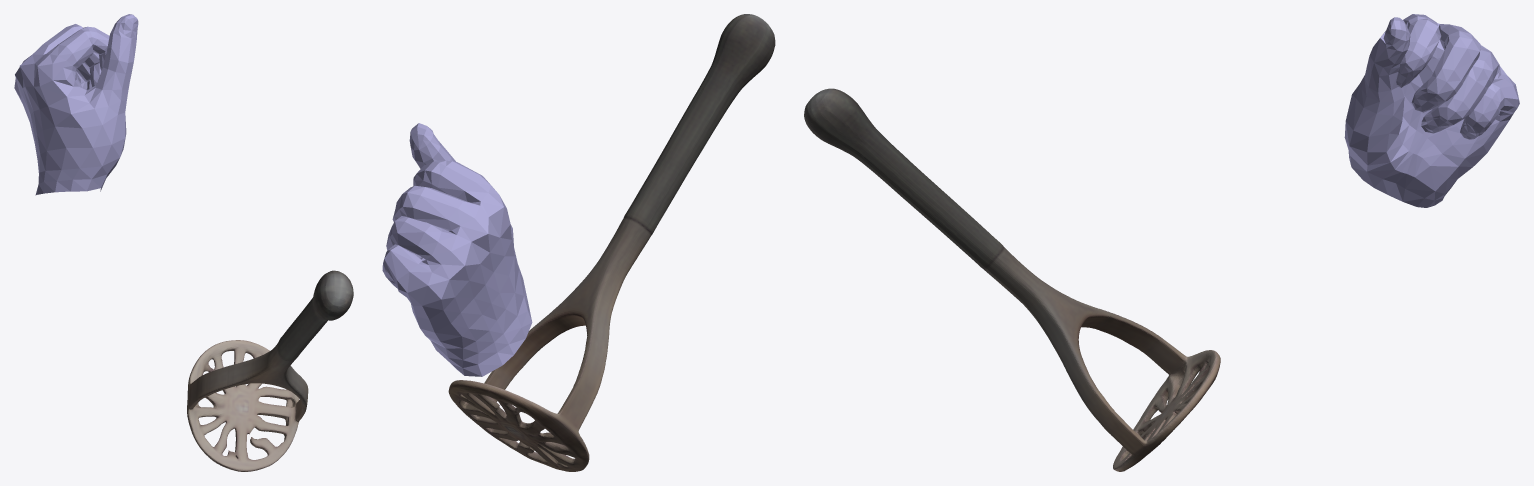
File: frame_0024_source_000024_hand_object.glb
The picture shows the model from 3 angles, left to right: view 1: azimuth 30°, elevation 25°; view 2: azimuth 150°, elevation 25°; view 3: azimuth 270°, elevation 25°; orthographic projection. The views are drawn at different scales.
Visible parts, largest first — view 1: world; view 2: world; view 3: world.
Part boxes in pixels (bbox=[...]): world: bbox=[14, 14, 353, 471]; world: bbox=[382, 14, 775, 471]; world: bbox=[804, 14, 1519, 471].
Size of the model in its own units: 0.1103 by 0.2534 by 0.373.
